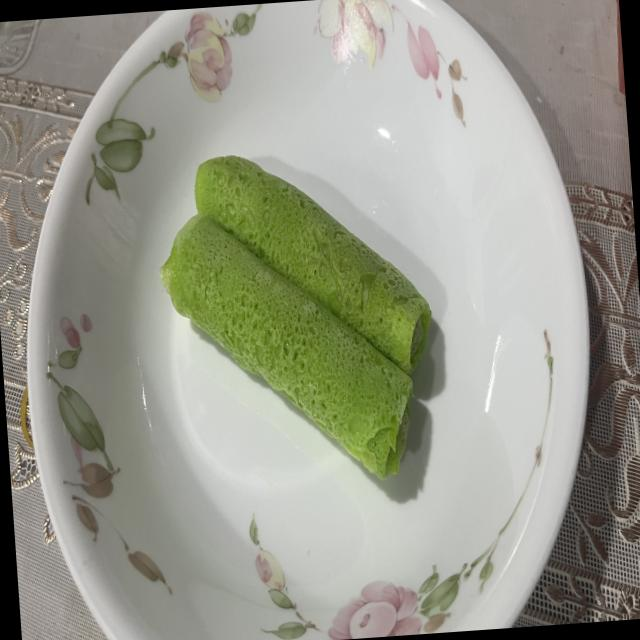Kuih-Ketayap: (160, 214, 412, 478), (194, 155, 431, 374)
